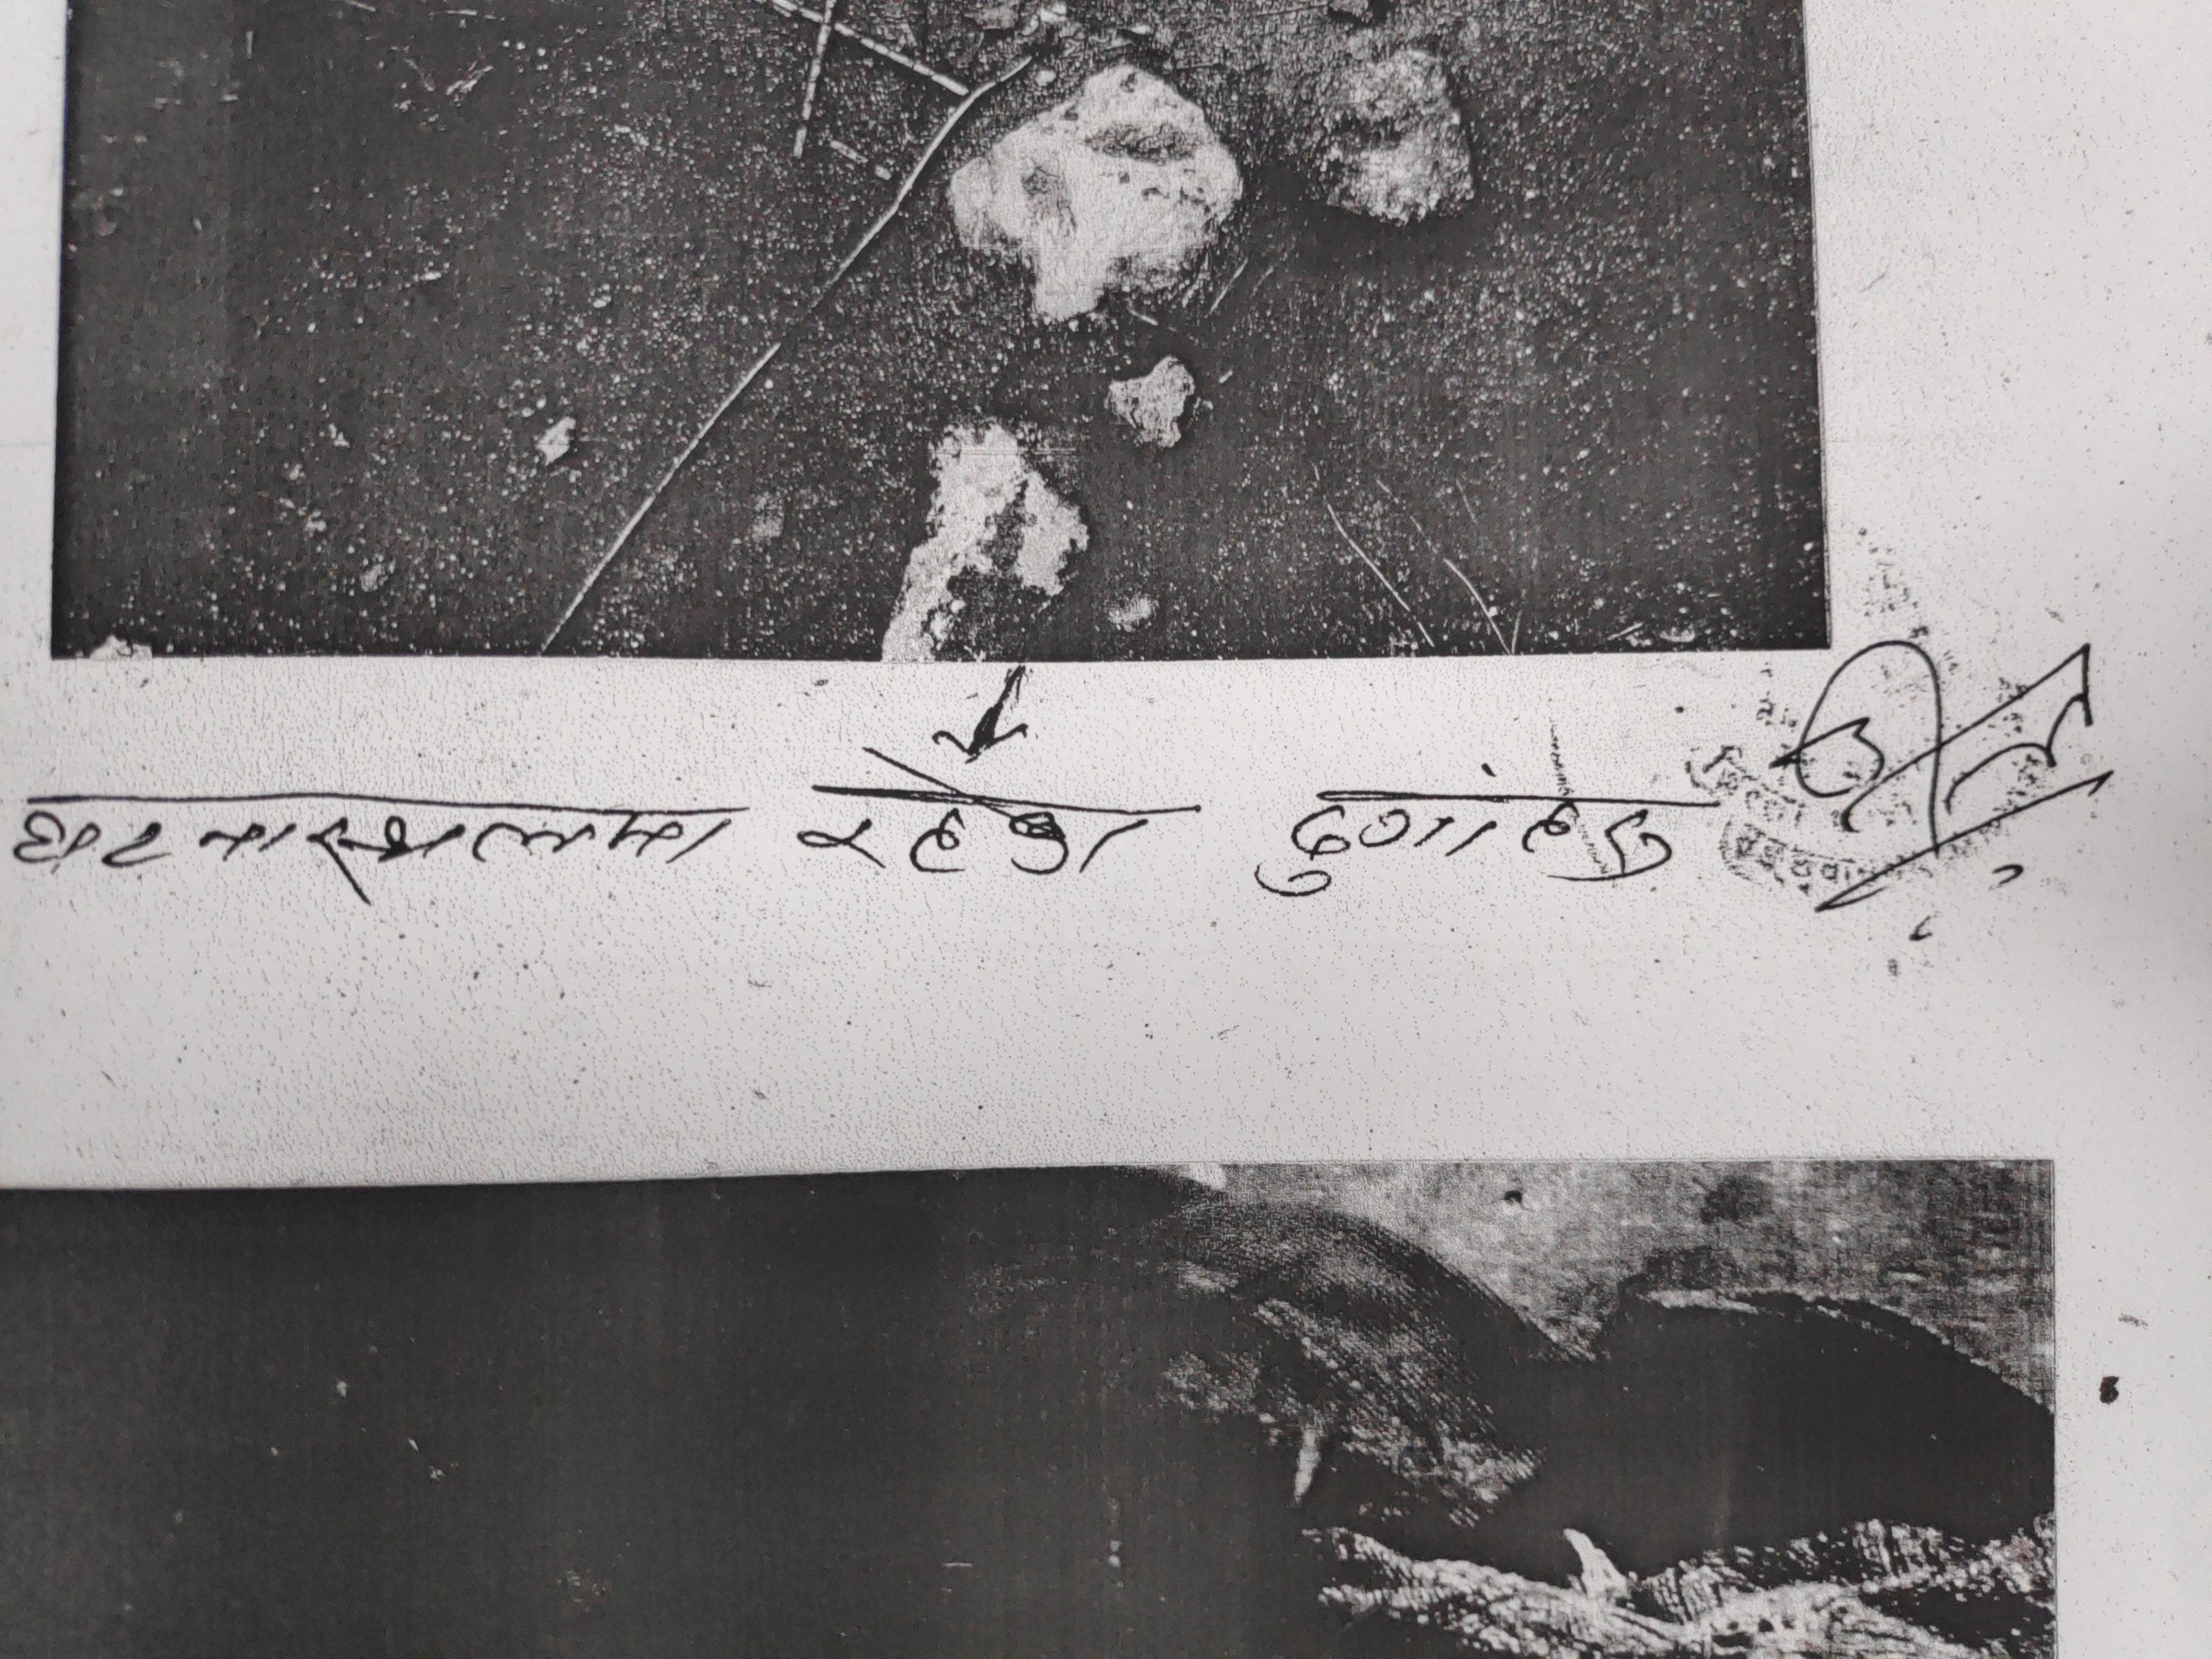text: (5, 777, 742, 897), (794, 744, 1165, 897), (1251, 786, 1681, 915)
